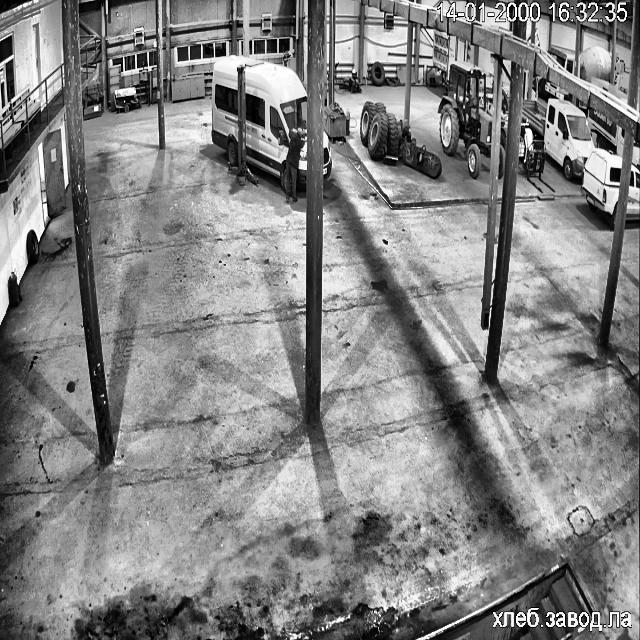car: (580, 148, 621, 228), (627, 165, 640, 219)
car lift: (228, 64, 257, 185)
fire extinguisher: (8, 272, 21, 306)
mechanic: (284, 128, 303, 203)
tractor: (438, 61, 492, 178), (498, 140, 504, 177), (500, 108, 500, 110)
truck: (212, 55, 306, 188), (522, 99, 593, 179), (588, 108, 624, 156), (592, 78, 626, 102), (548, 45, 574, 73), (536, 76, 564, 100), (297, 140, 307, 188), (323, 132, 332, 178), (632, 142, 640, 164)
